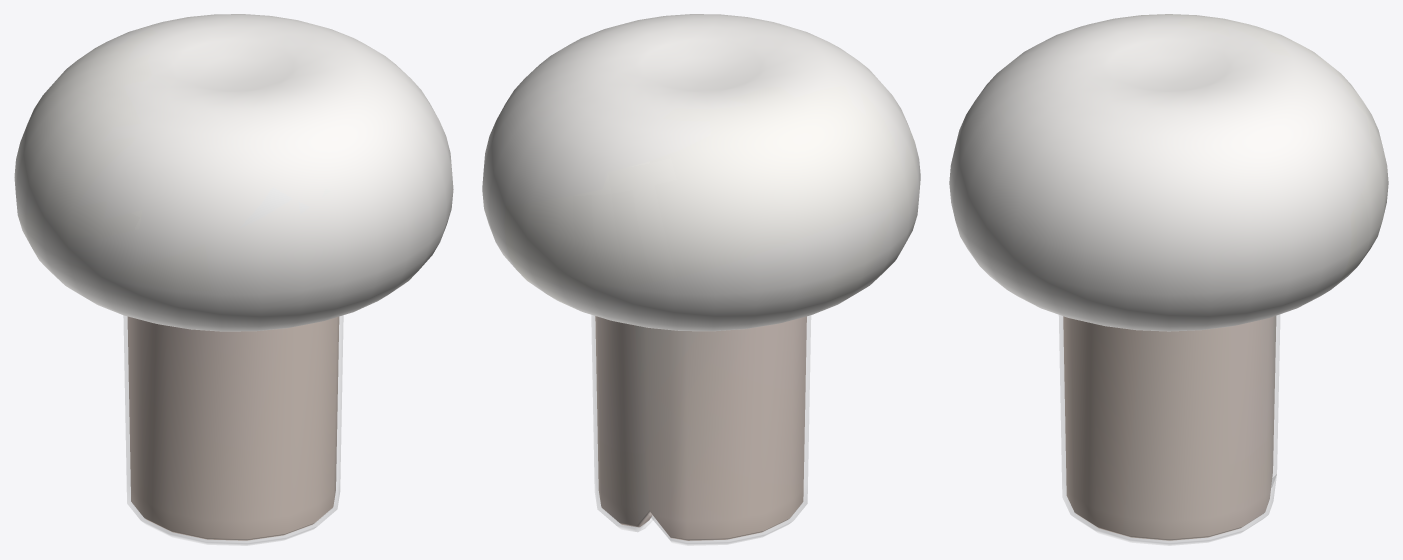
3 views of the same model, side by side, from view 1: azimuth 30°, elevation 25°; view 2: azimuth 150°, elevation 25°; view 3: azimuth 270°, elevation 25° (orthographic).
Visible parts, largest first — view 1: Mesh_1, Mesh_0; view 2: Mesh_1, Mesh_0; view 3: Mesh_1, Mesh_0.
Boxes of the visible parts, x1,y1,x2,y2 form: Mesh_1: (14,14,453,540); Mesh_0: (123,315,343,545); Mesh_1: (482,14,920,540); Mesh_0: (591,315,810,545); Mesh_1: (949,14,1388,540); Mesh_0: (1059,314,1279,545).
Size of the model in its own units: 0.2555 by 0.2825 by 0.2555.
2 materials, 1 textured.
